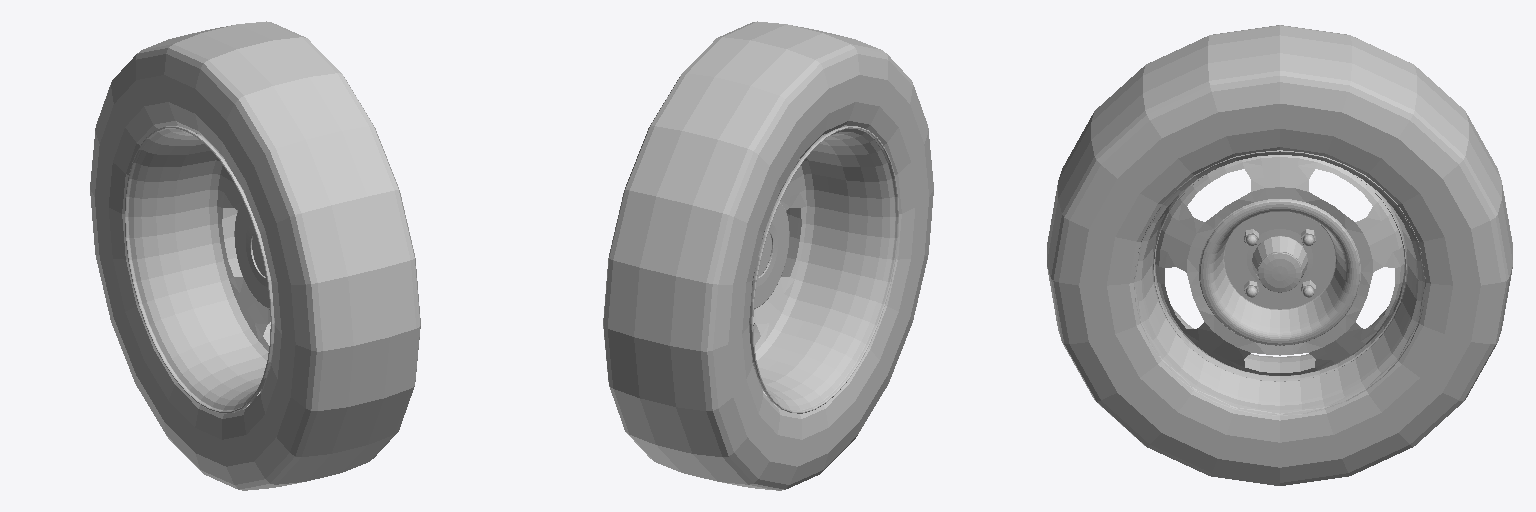
File: ruota.obj
3 renders of one model, left to right at view 1: azimuth 30°, elevation 25°; view 2: azimuth 150°, elevation 25°; view 3: azimuth 270°, elevation 25°, orthographic.
Bounding box in the file's own units: 1.32 × 4.39 × 4.39.